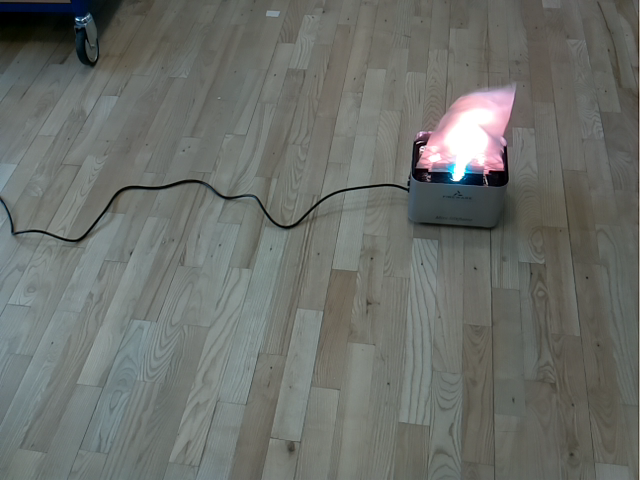fire: (415, 82, 517, 174)
